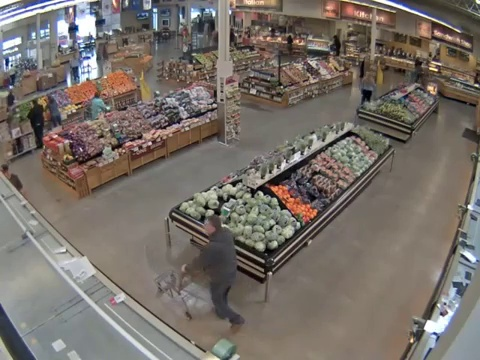face: (203, 220, 216, 235)
